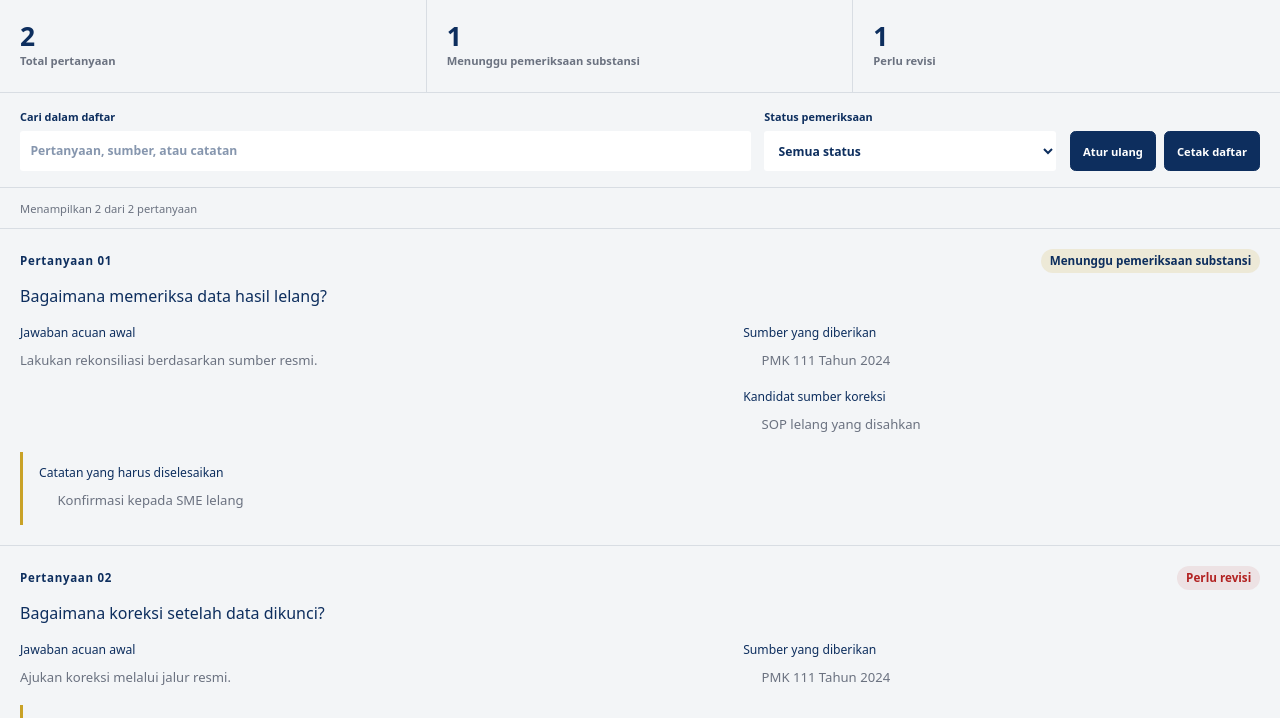
Test: ValidationRegister › filters the read-only register by search and status
The width and height of the screenshot is (1280, 718).
Expected: the text "Menampilkan 2 dari 2 pertanyaan" is shown, [0,188,1279,229]
In the search field labelled "Cari dalam daftar": (385, 151) [20,131,751,171], type "dikunci"
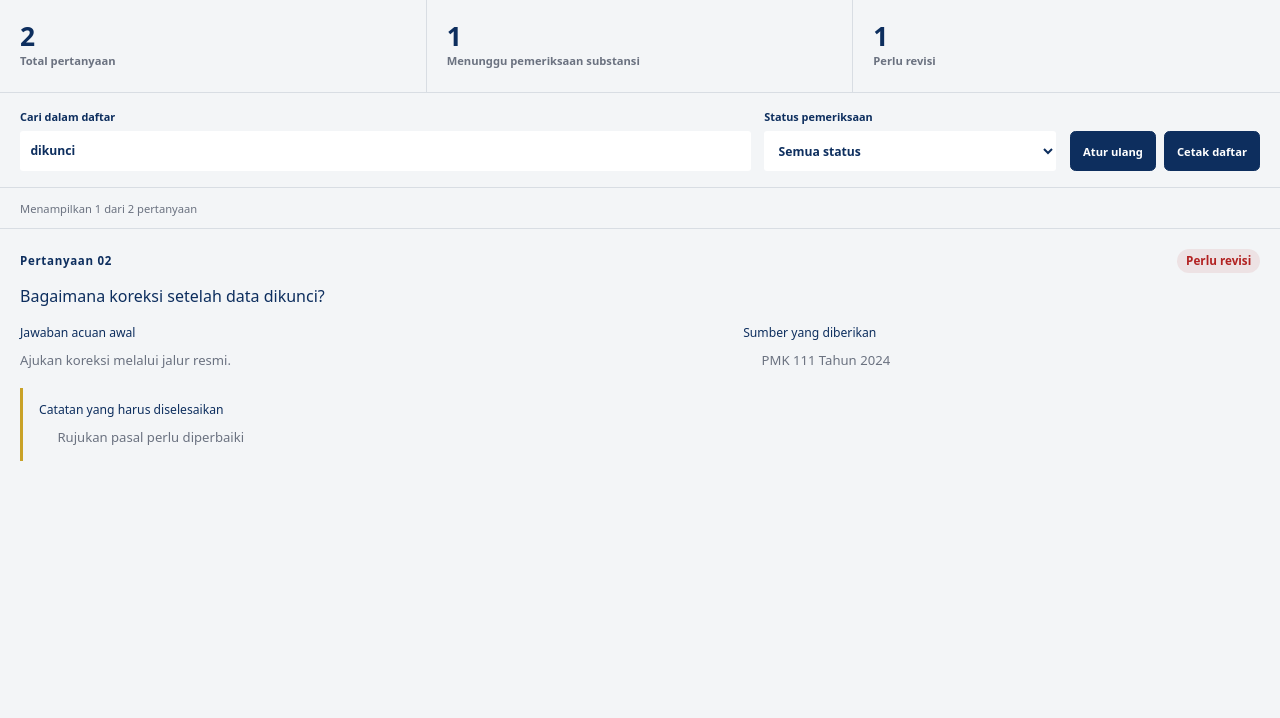
Result: the text "Menampilkan 1 dari 2 pertanyaan" is shown at [0,188,1279,229]
Result: the heading "Bagaimana memeriksa data hasil lelang?" is gone
Click the button "Atur ulang": click(1113, 151) [1070,131,1156,171]
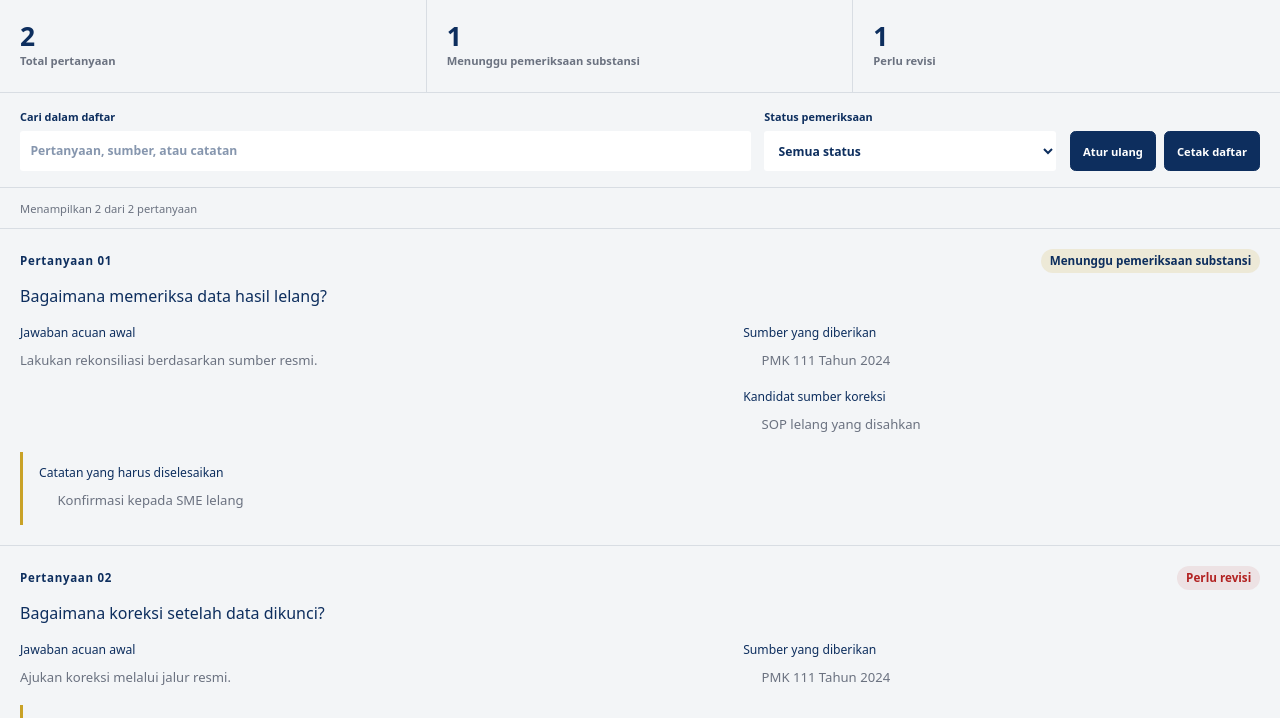
Select "Menunggu pemeriksaan substansi (1)" in the dropdown labelled "Status pemeriksaan": (910, 151) [764,131,1056,171]
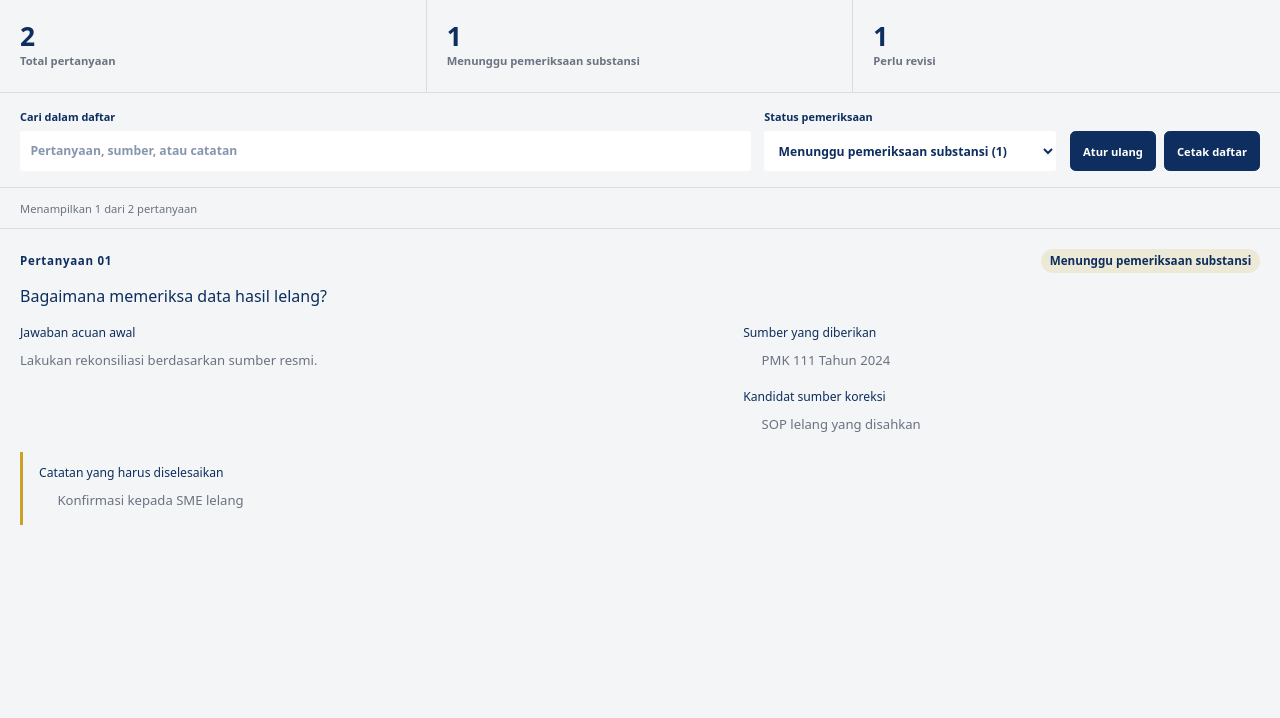
Result: the heading "Bagaimana memeriksa data hasil lelang?" is shown at [20,285,327,307]
Result: the heading "Bagaimana koreksi setelah data dikunci?" is gone
